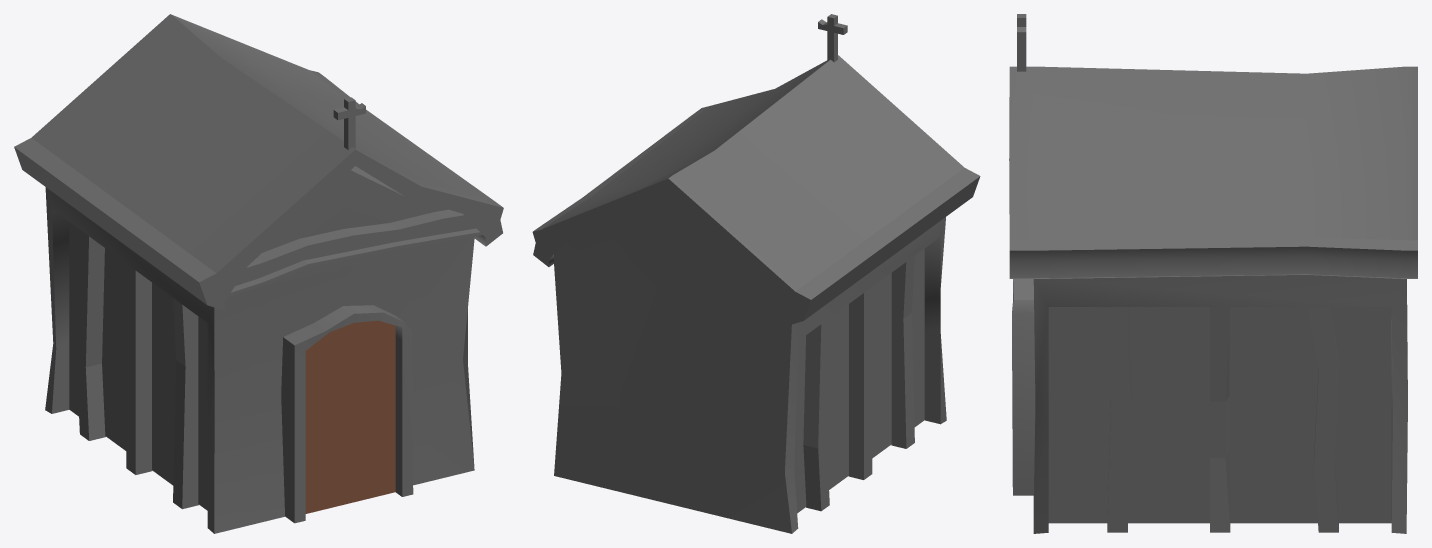
The model's file is Cripta2.fbx.
3 views of the same model, side by side, from view 1: azimuth 30°, elevation 25°; view 2: azimuth 150°, elevation 25°; view 3: azimuth 270°, elevation 25° (orthographic). The views are drawn at different scales.
Parts seen in each view (by area): view 1: Cripta2.001; view 2: Cripta2.001; view 3: Cripta2.001.
Boxes of the visible parts, left/top/right/bottom form: Cripta2.001: left=14, top=14, right=503, bottom=533; Cripta2.001: left=532, top=14, right=980, bottom=533; Cripta2.001: left=1009, top=14, right=1417, bottom=533.
Size of the model in its own units: 3.99 by 3.78 by 4.82.
